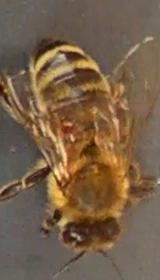varroa_mite: (51, 103, 96, 150)
